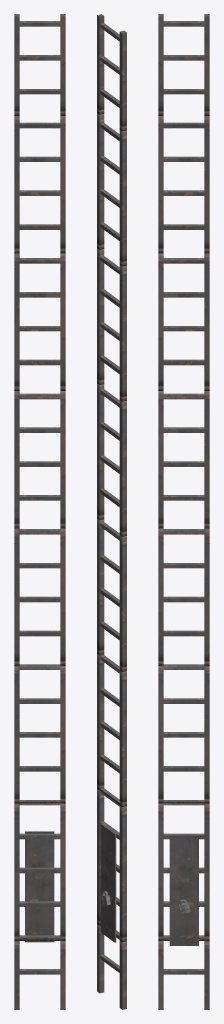
Rendered from ladder.fbx.
3 views of the same model, side by side, from view 1: azimuth 90°, elevation 25°; view 2: azimuth 210°, elevation 25°; view 3: azimuth 270°, elevation 25° (orthographic).
Visible parts, largest first — view 1: Ladder, Ladder Guard; view 2: Ladder, Ladder Guard; view 3: Ladder, Ladder Guard.
Boxes of the visible parts, x1,y1,x2,y2 form: Ladder: (14,14,65,1009); Ladder Guard: (25,831,54,942); Ladder: (97,14,126,1009); Ladder Guard: (100,823,116,942); Ladder: (158,14,209,1009); Ladder Guard: (169,835,198,945).
Size of the model in its own units: 16.74 by 1445 by 67.71.
